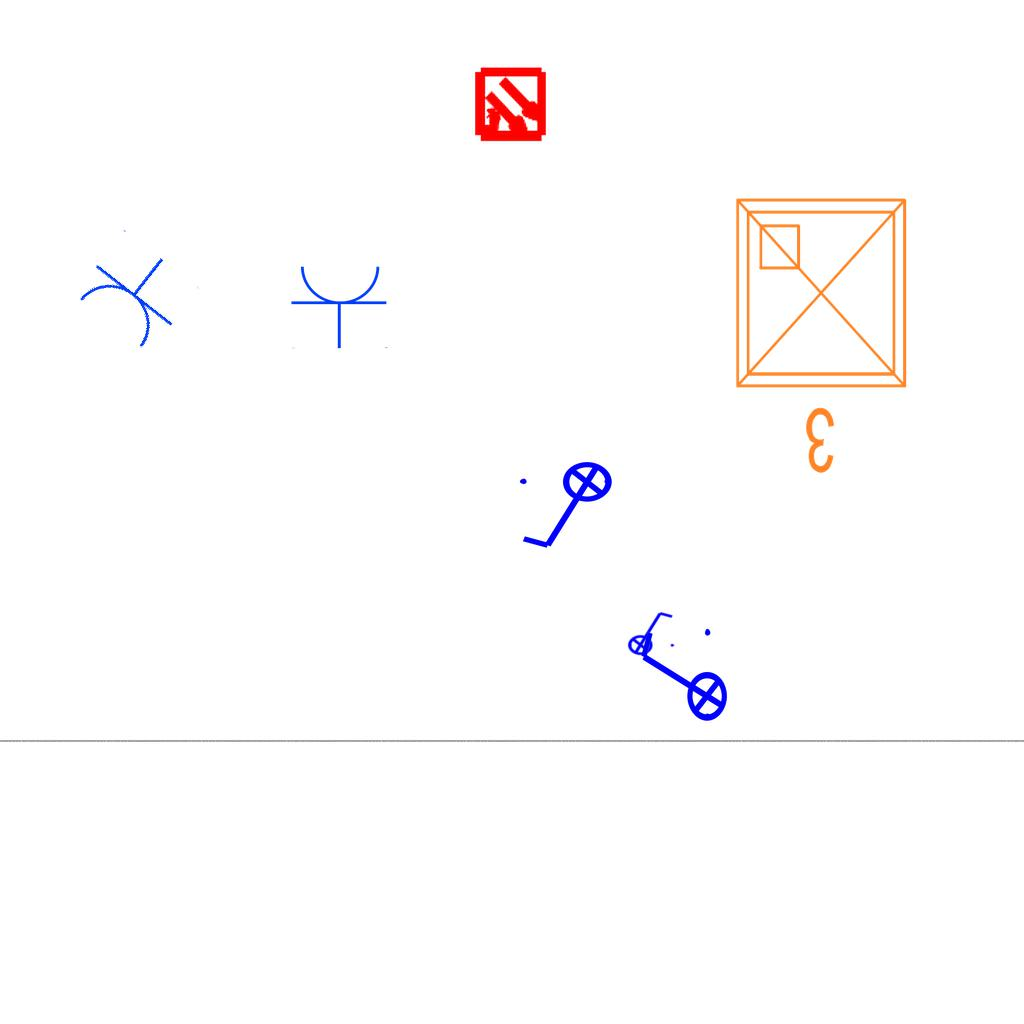Ausschalter_beleuchtet: (514, 460, 626, 556), (633, 623, 729, 735), (621, 608, 677, 656)
Einbaudownlights_LED_Konferenzraeume: (721, 184, 929, 484)
OT_Multisensormelder_(Kombination_RMO_WMD): (454, 50, 567, 163)
Schukosteckdose_einfach: (68, 227, 202, 358), (290, 262, 390, 349)
